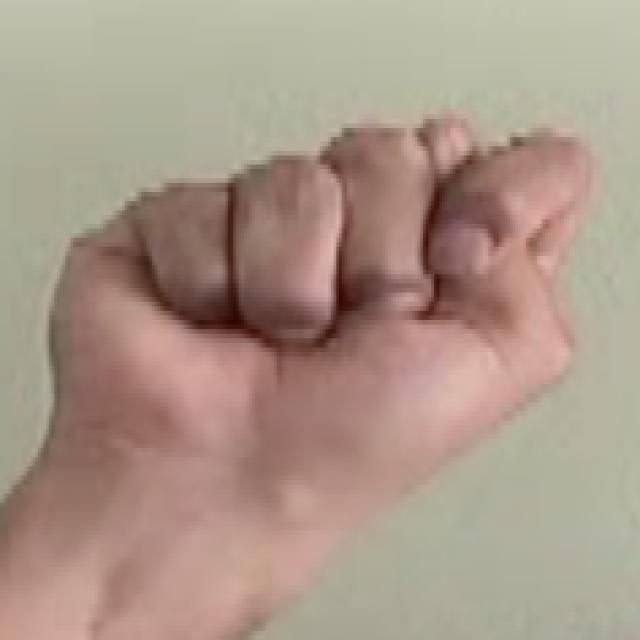T: (39, 82, 606, 550)
